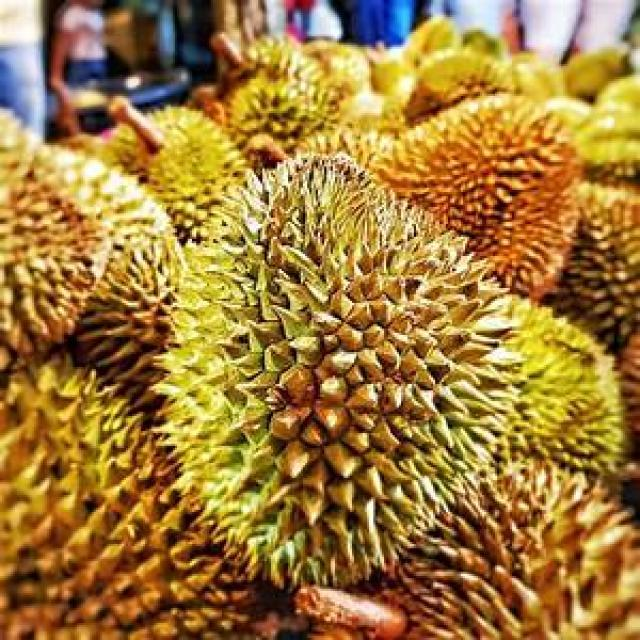mature: (159, 155, 521, 587)
